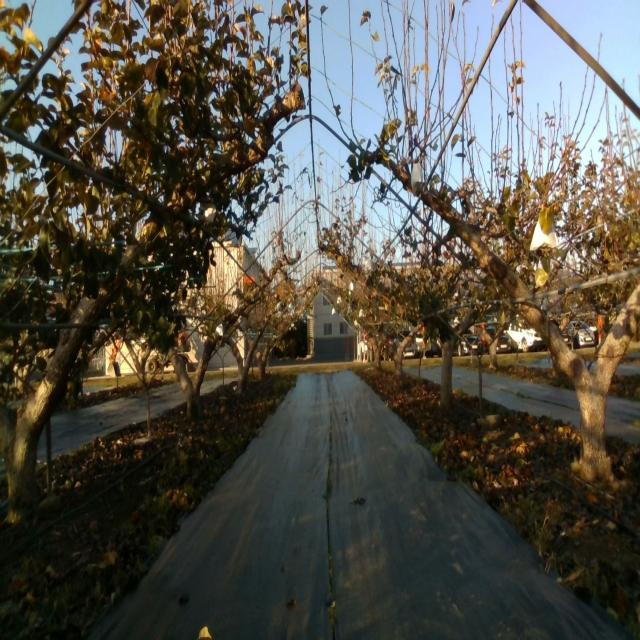pearbags: (529, 220, 558, 252), (199, 198, 216, 224), (411, 162, 423, 198)
